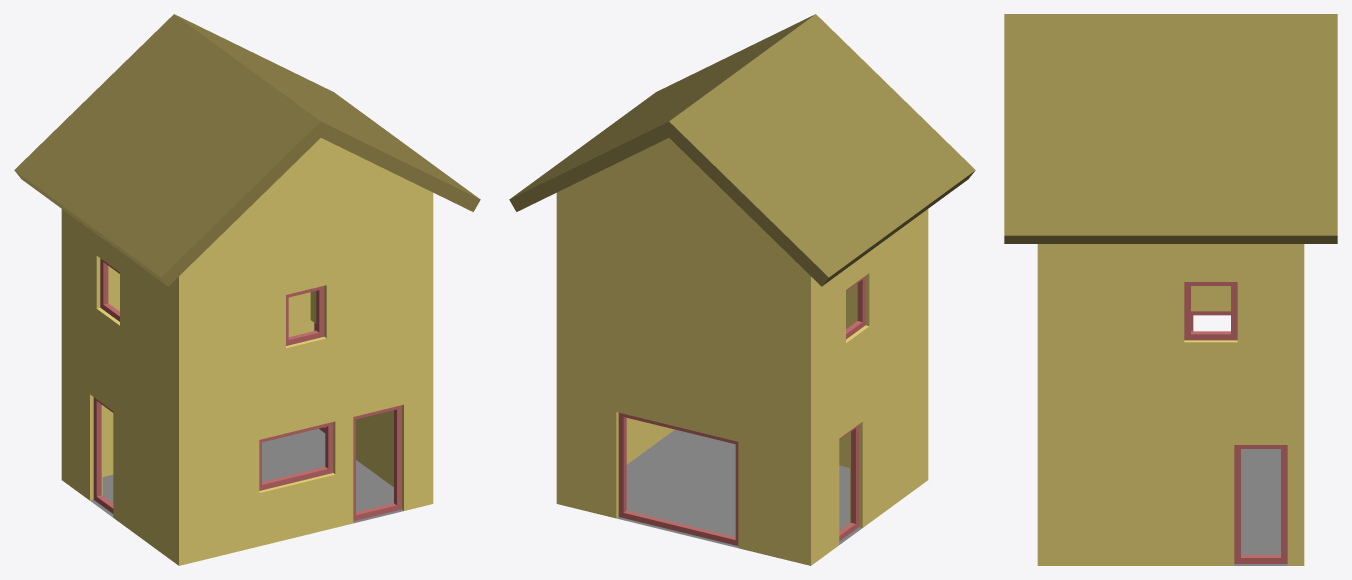
File: result.glb
3 views of the same model, side by side, from view 1: azimuth 30°, elevation 25°; view 2: azimuth 150°, elevation 25°; view 3: azimuth 270°, elevation 25° (orthographic). The views are drawn at different scales.
Visible parts, largest first — view 1: 46bcda4d-3f8c-4fdb-bac5-43ba3dfbbe81__undefined, 093f53c2-033f-4b11-a61f-b5f249e93619__undefined (×2), 55f8e1dd-d6e5-45e7-a5bc-64d4c0082f76__Plane_8, a5c5eb99-cad3-4092-9753-f7d1a1453703__Box, b7946ef4-4ff5-4d78-9a7a-91d17bd91c39__Box_3, 0f4248d9-53c2-41a6-88c9-0a111a1fd434__Box_12, f285858d-8b79-4018-81e4-96fa1c4362a6__Box_6, 782ee079-5221-4c90-ba9b-e133263b160e__Box_15; view 2: 46bcda4d-3f8c-4fdb-bac5-43ba3dfbbe81__undefined, 093f53c2-033f-4b11-a61f-b5f249e93619__undefined (×2), 55f8e1dd-d6e5-45e7-a5bc-64d4c0082f76__Plane_8, b8c1b135-48d9-4088-9398-f9f2d7c3acc0__Box_9, 0f4248d9-53c2-41a6-88c9-0a111a1fd434__Box_12, 782ee079-5221-4c90-ba9b-e133263b160e__Box_15; view 3: 46bcda4d-3f8c-4fdb-bac5-43ba3dfbbe81__undefined, 093f53c2-033f-4b11-a61f-b5f249e93619__undefined, 55f8e1dd-d6e5-45e7-a5bc-64d4c0082f76__Plane_8, bfd70974-c145-44c6-b3d4-075113368b82__Box_18, eed97380-dee9-4442-82d3-325f20e95ded__Box_21.
Part boxes in pixels (x1,y1,x2,y2): 46bcda4d-3f8c-4fdb-bac5-43ba3dfbbe81__undefined: (61, 138, 433, 565); 093f53c2-033f-4b11-a61f-b5f249e93619__undefined (×2): (14, 14, 480, 286); 55f8e1dd-d6e5-45e7-a5bc-64d4c0082f76__Plane_8: (90, 428, 403, 523); a5c5eb99-cad3-4092-9753-f7d1a1453703__Box: (353, 405, 401, 521); b7946ef4-4ff5-4d78-9a7a-91d17bd91c39__Box_3: (259, 422, 333, 490); 0f4248d9-53c2-41a6-88c9-0a111a1fd434__Box_12: (93, 397, 113, 513); f285858d-8b79-4018-81e4-96fa1c4362a6__Box_6: (286, 286, 324, 345); 782ee079-5221-4c90-ba9b-e133263b160e__Box_15: (100, 258, 119, 321); 46bcda4d-3f8c-4fdb-bac5-43ba3dfbbe81__undefined: (556, 138, 928, 565); 093f53c2-033f-4b11-a61f-b5f249e93619__undefined (×2): (509, 14, 975, 286); 55f8e1dd-d6e5-45e7-a5bc-64d4c0082f76__Plane_8: (616, 429, 862, 547); b8c1b135-48d9-4088-9398-f9f2d7c3acc0__Box_9: (618, 412, 738, 545); 0f4248d9-53c2-41a6-88c9-0a111a1fd434__Box_12: (839, 424, 858, 540); 782ee079-5221-4c90-ba9b-e133263b160e__Box_15: (846, 276, 865, 339); 46bcda4d-3f8c-4fdb-bac5-43ba3dfbbe81__undefined: (1037, 244, 1304, 565); 093f53c2-033f-4b11-a61f-b5f249e93619__undefined: (1004, 14, 1337, 243); 55f8e1dd-d6e5-45e7-a5bc-64d4c0082f76__Plane_8: (1234, 449, 1287, 565); bfd70974-c145-44c6-b3d4-075113368b82__Box_18: (1234, 445, 1287, 563); eed97380-dee9-4442-82d3-325f20e95ded__Box_21: (1184, 282, 1237, 340).
Bounding box in the file's own units: 629 × 797 × 500.
